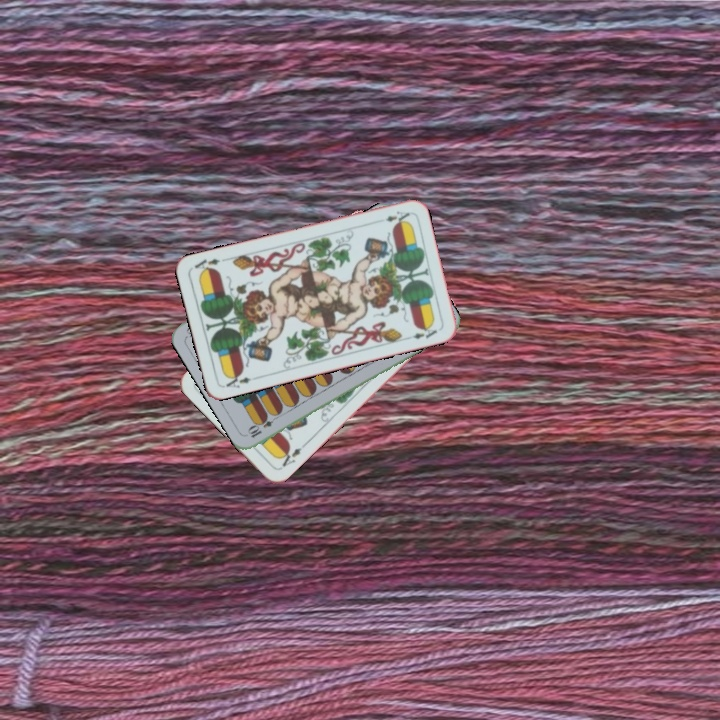E10: (244, 411, 281, 440)
EA: (275, 439, 307, 470), (220, 369, 260, 391), (381, 207, 412, 226)
